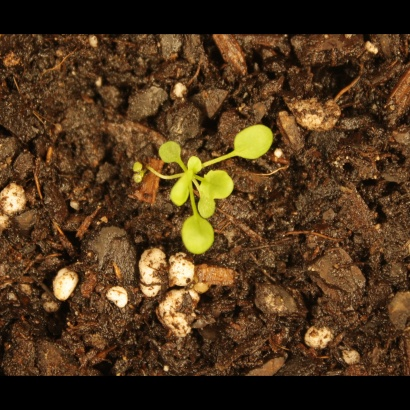leaf: (228, 118, 279, 165), (174, 213, 224, 257), (196, 168, 237, 202), (191, 187, 228, 220), (153, 135, 187, 164), (169, 171, 192, 209), (185, 147, 210, 176), (129, 175, 152, 198), (128, 152, 151, 175)
